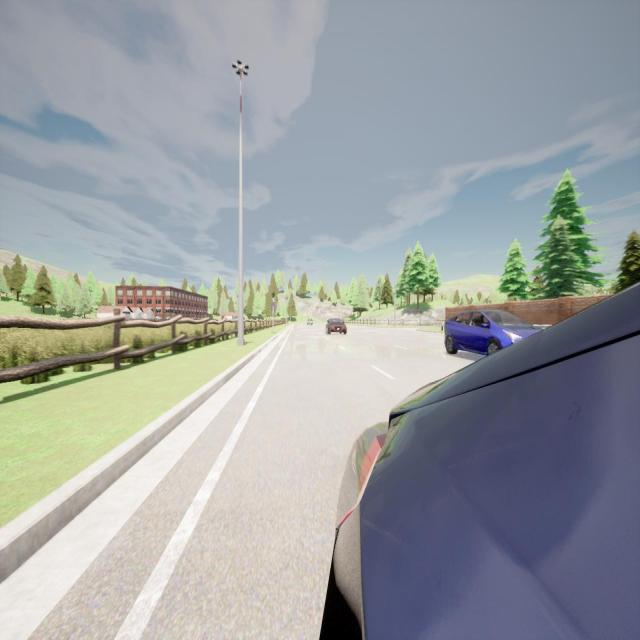Traffic_Signs: (270, 302, 276, 312)
Vehicle: (322, 284, 640, 638), (445, 310, 545, 354), (325, 319, 347, 335), (307, 319, 313, 325)
